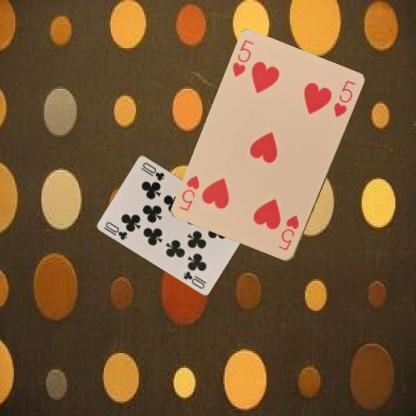10c: (103, 219, 129, 241)
5h: (229, 38, 255, 78), (276, 213, 301, 252)
